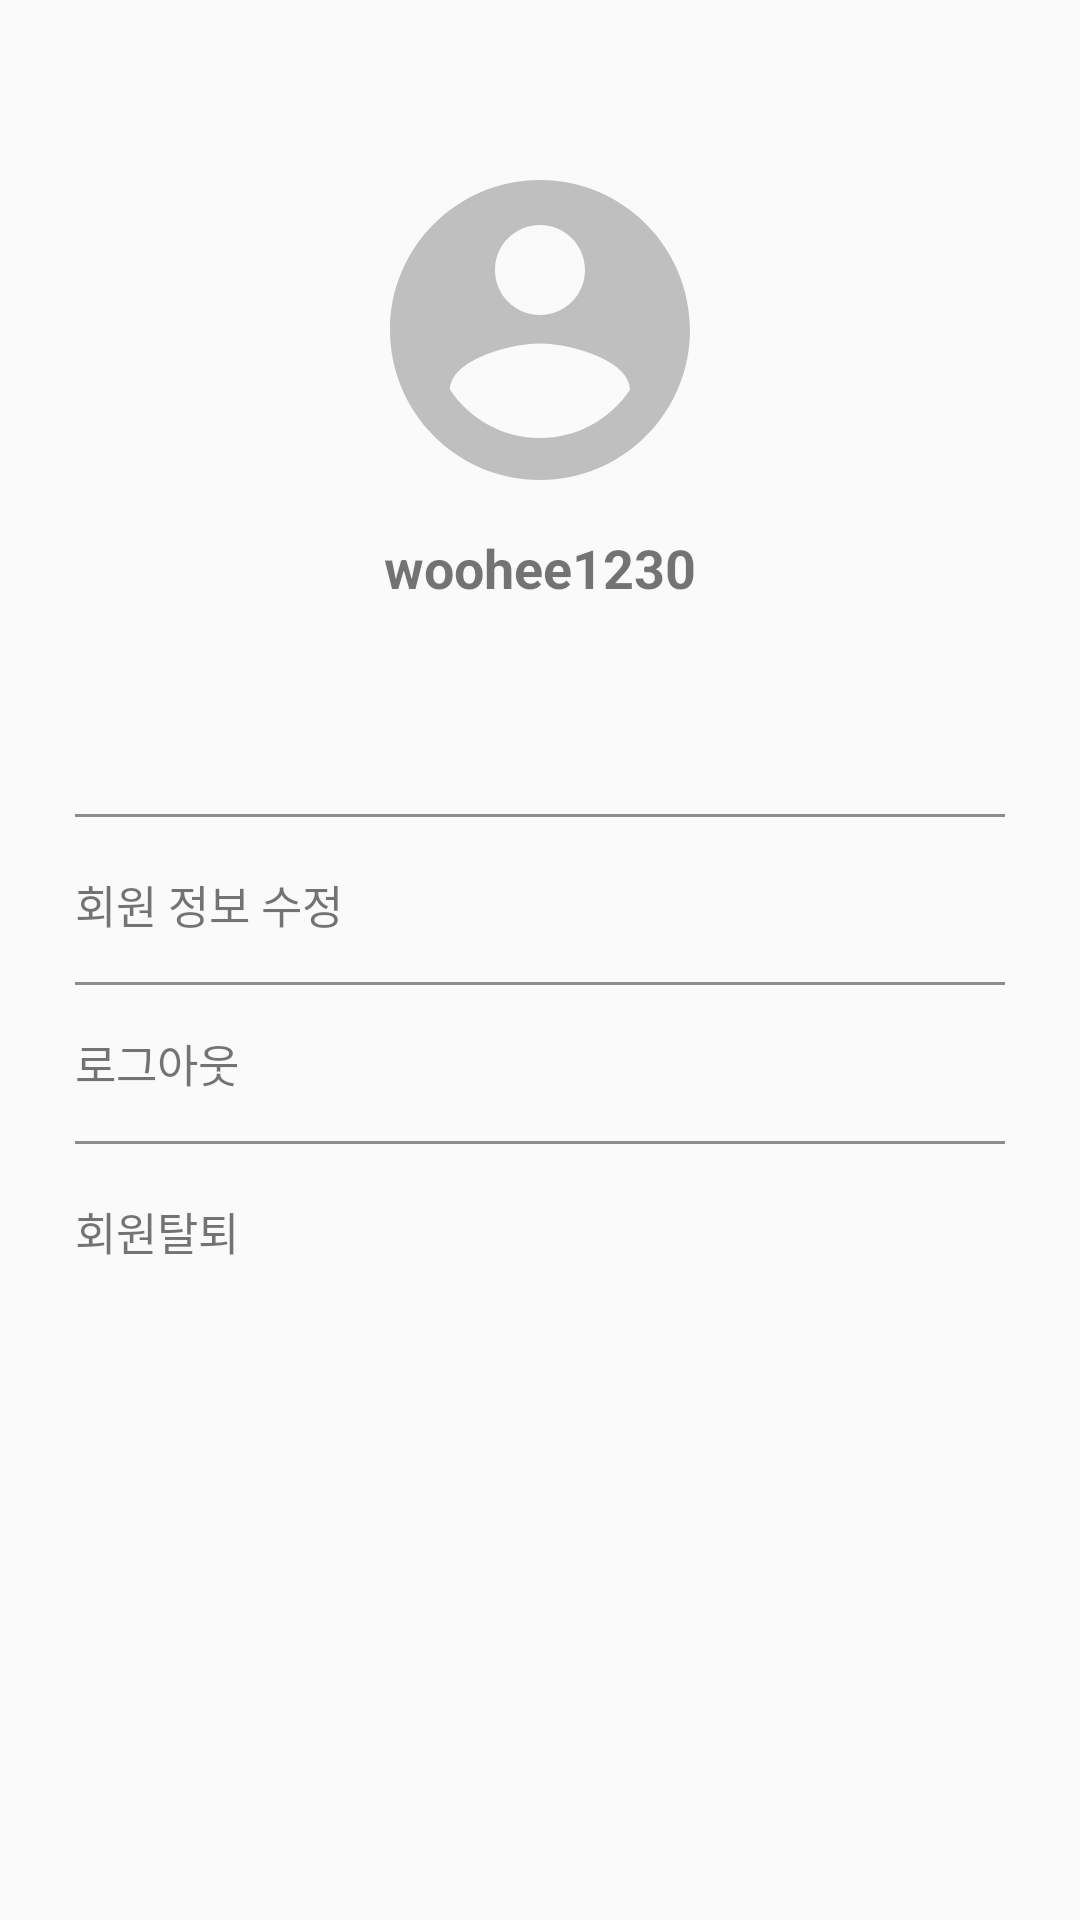

Point at icon controls on the screen. Image size 1080×1920, points as (x=x, y=y).
person: (x=540, y=330)
